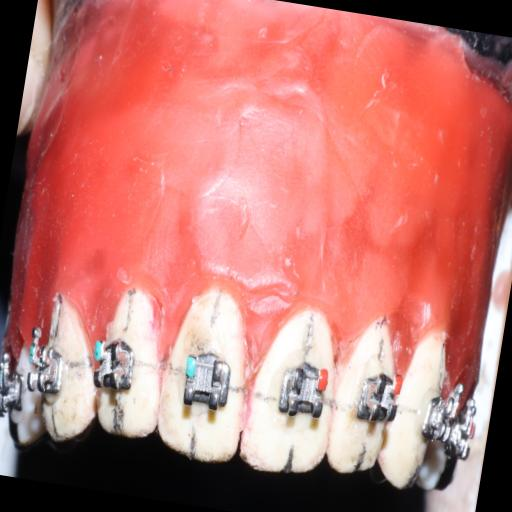incorrect_brace: (272, 353, 336, 434), (172, 342, 235, 420)
